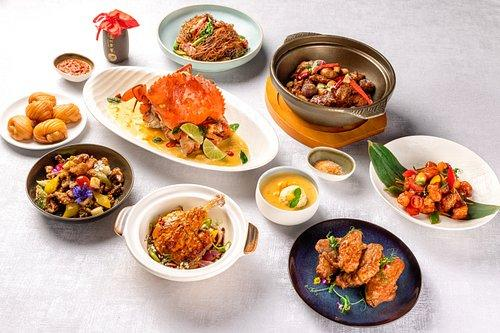Braised Crucian Carp: (80, 59, 278, 174), (287, 217, 421, 325), (122, 182, 252, 281), (371, 134, 500, 230), (269, 32, 393, 129), (24, 142, 134, 226), (155, 2, 262, 72)
